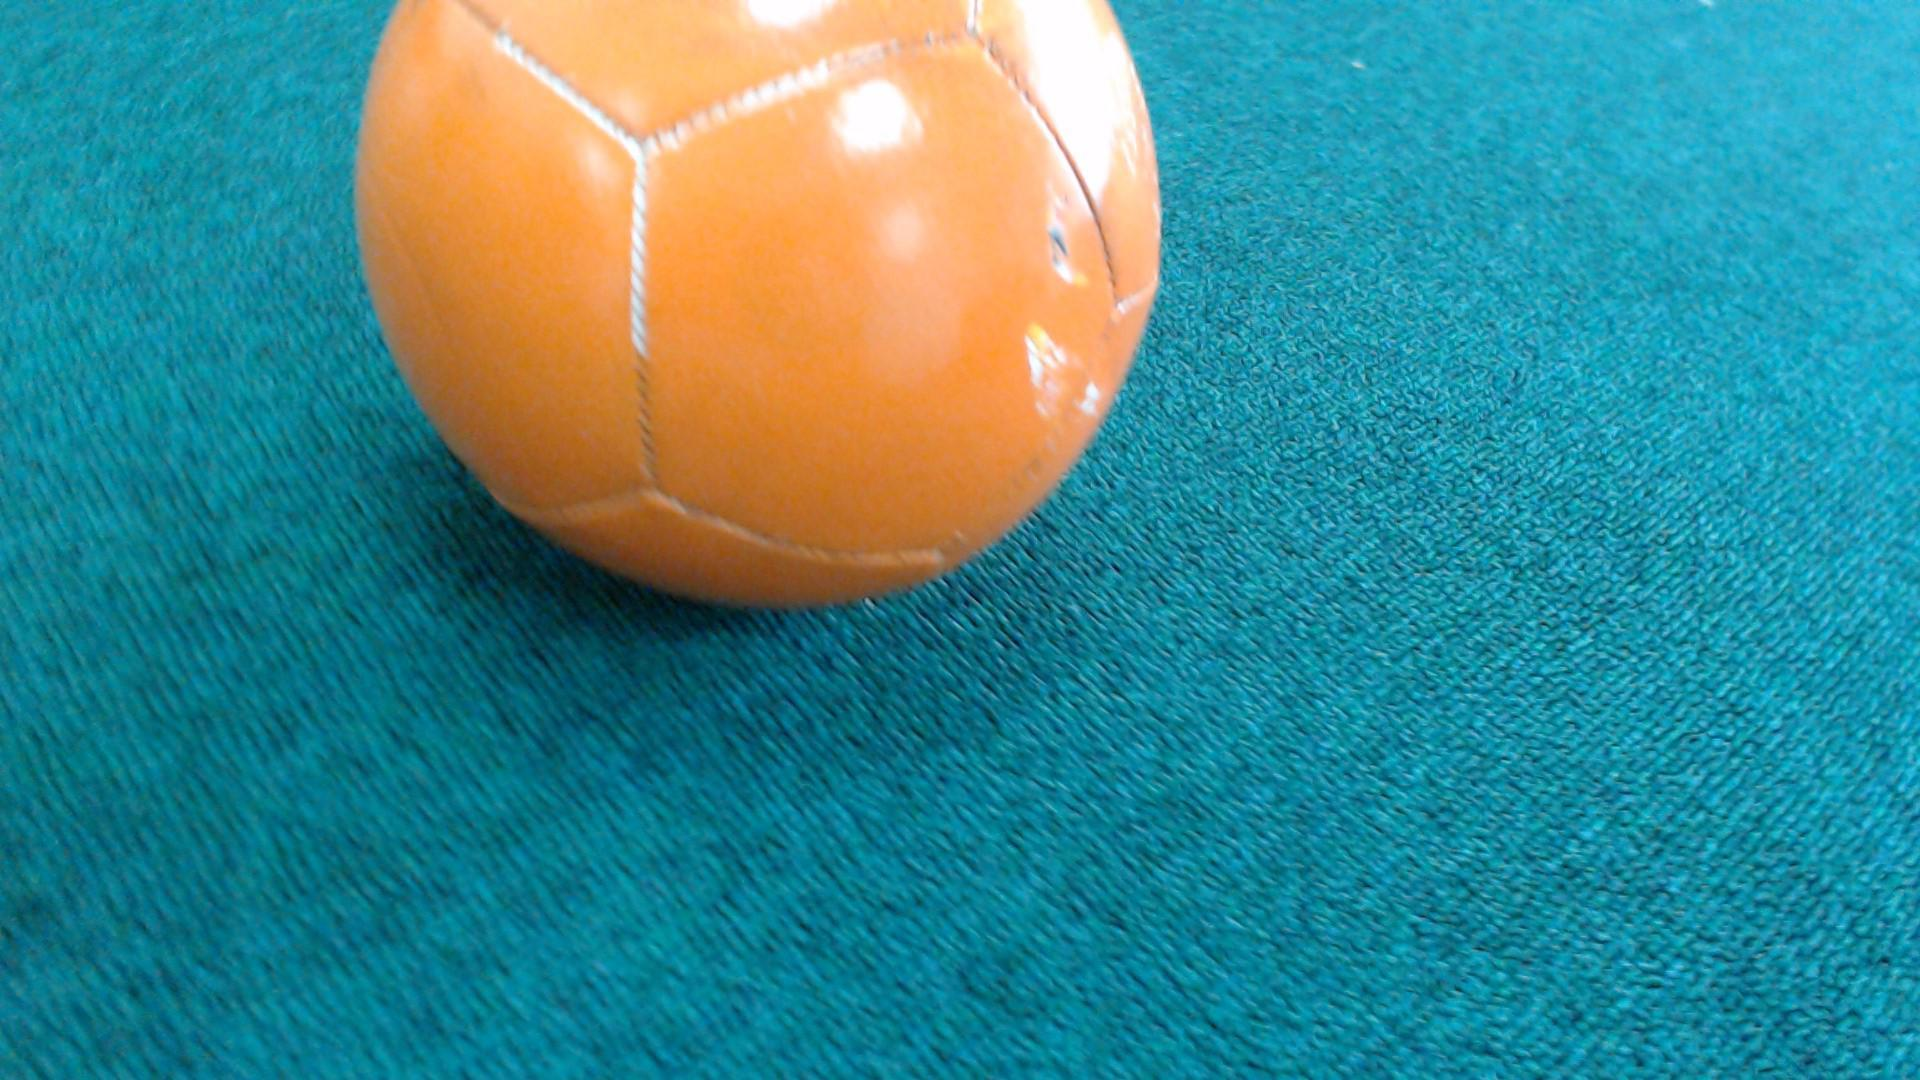bola: (287, 0, 1212, 662)
